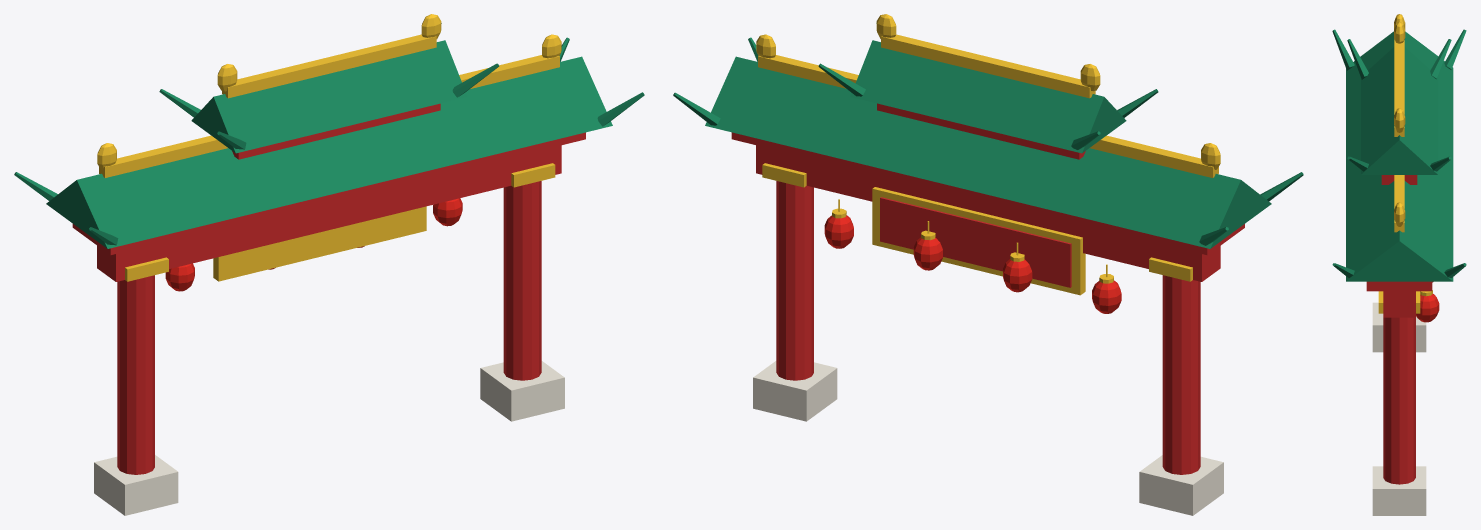
Rendered from env_lm3_petaling_gate.fbx.
The picture shows the model from 3 angles, left to right: view 1: azimuth 30°, elevation 25°; view 2: azimuth 150°, elevation 25°; view 3: azimuth 270°, elevation 25°; orthographic projection. The views are drawn at different scales.
Parts seen in each view (by area): view 1: env_lm3_petaling_gate_geo_LOD0; view 2: env_lm3_petaling_gate_geo_LOD0; view 3: env_lm3_petaling_gate_geo_LOD0.
Boxes of the visible parts, x1=… form: env_lm3_petaling_gate_geo_LOD0: x1=14, y1=14, x2=644, y2=515; env_lm3_petaling_gate_geo_LOD0: x1=673, y1=14, x2=1303, y2=515; env_lm3_petaling_gate_geo_LOD0: x1=1332, y1=14, x2=1466, y2=515.
Size of what is drawn, in the model's own units: 18.68 by 13.25 by 4.5.
